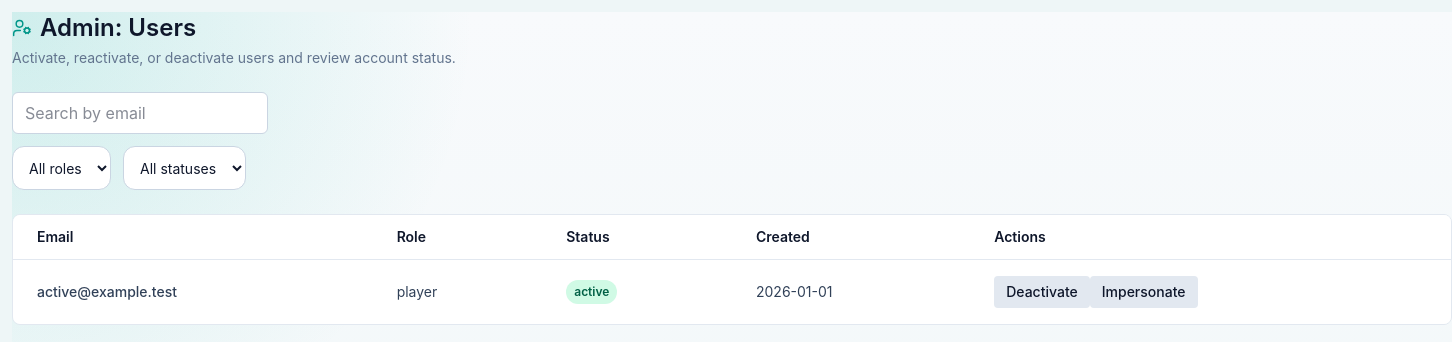
it: AdminUsersPage › allows deactivating an active user
expect the text "active@example.test" is shown: met, box [13,260,373,324]
Click the button "Deactivate": (1042,292) [994,276,1090,308]
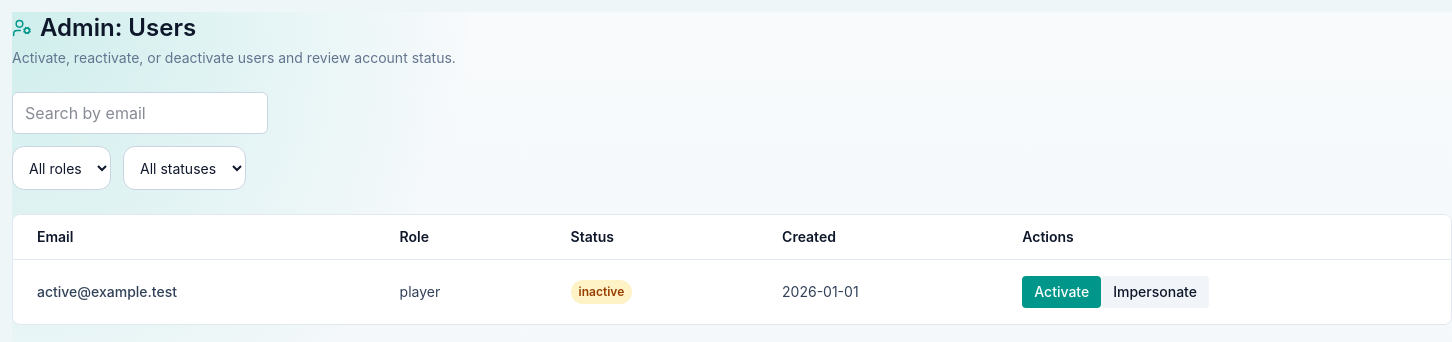
expect the text "inactive" is shown: met, box [571,280,632,304]
